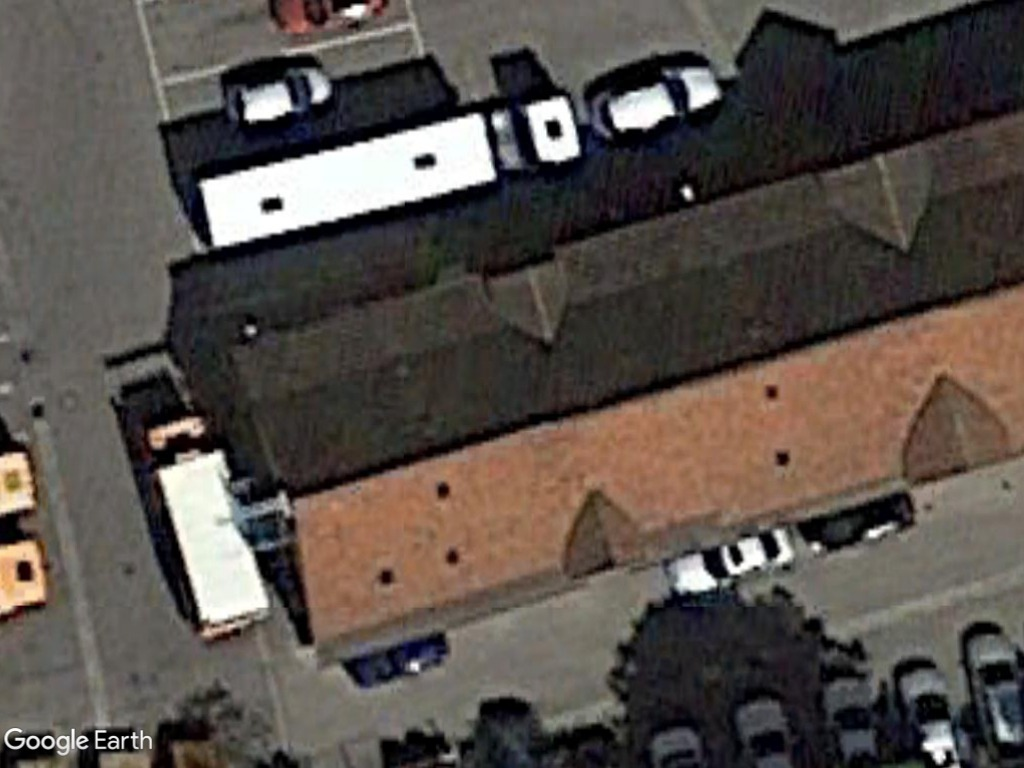car: (584, 57, 726, 143), (218, 59, 341, 131)
longvehicle: (182, 88, 580, 266)
truck: (139, 417, 275, 643)
